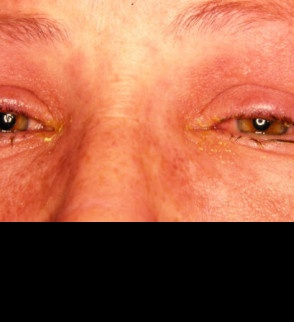SJS-TEN: (175, 85, 260, 164), (0, 97, 81, 154)
